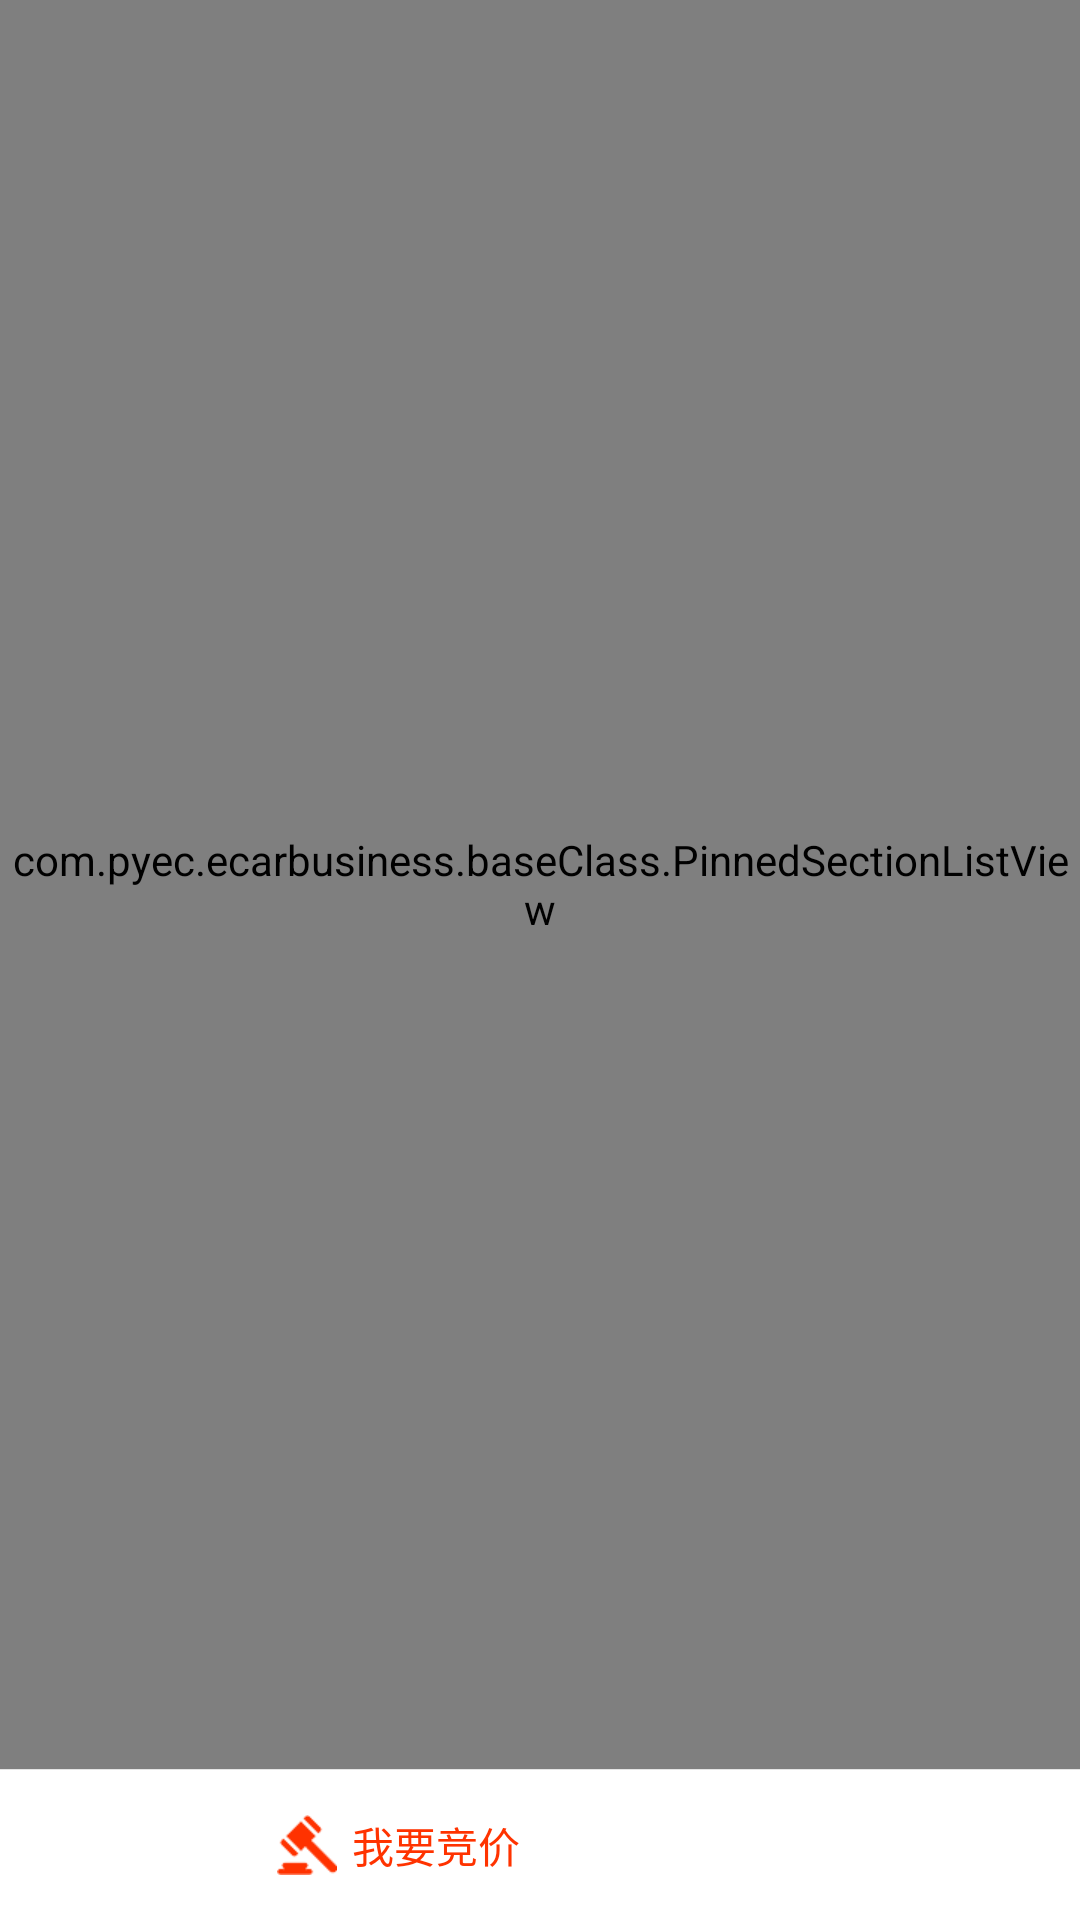

Screen size 1080w x 1920h. Icon name, then its box in pixels as (x1, y1, x2, y2):
auction in detail: (277, 1815, 337, 1875)
